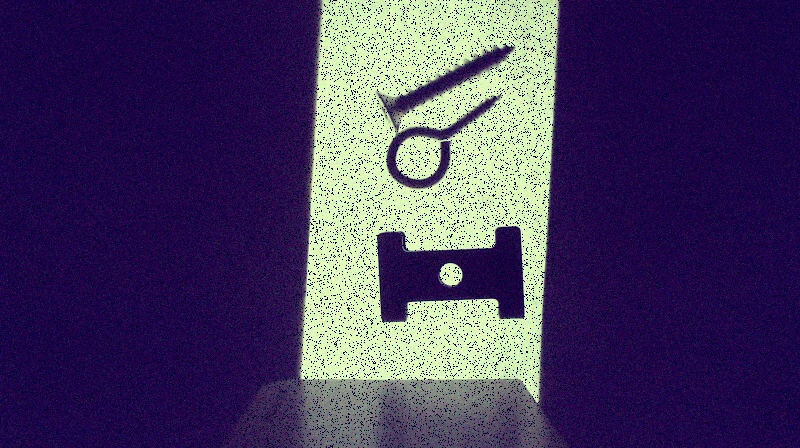O001: (383, 91, 503, 189)
O002: (374, 225, 526, 323)
S001: (372, 41, 519, 133)
